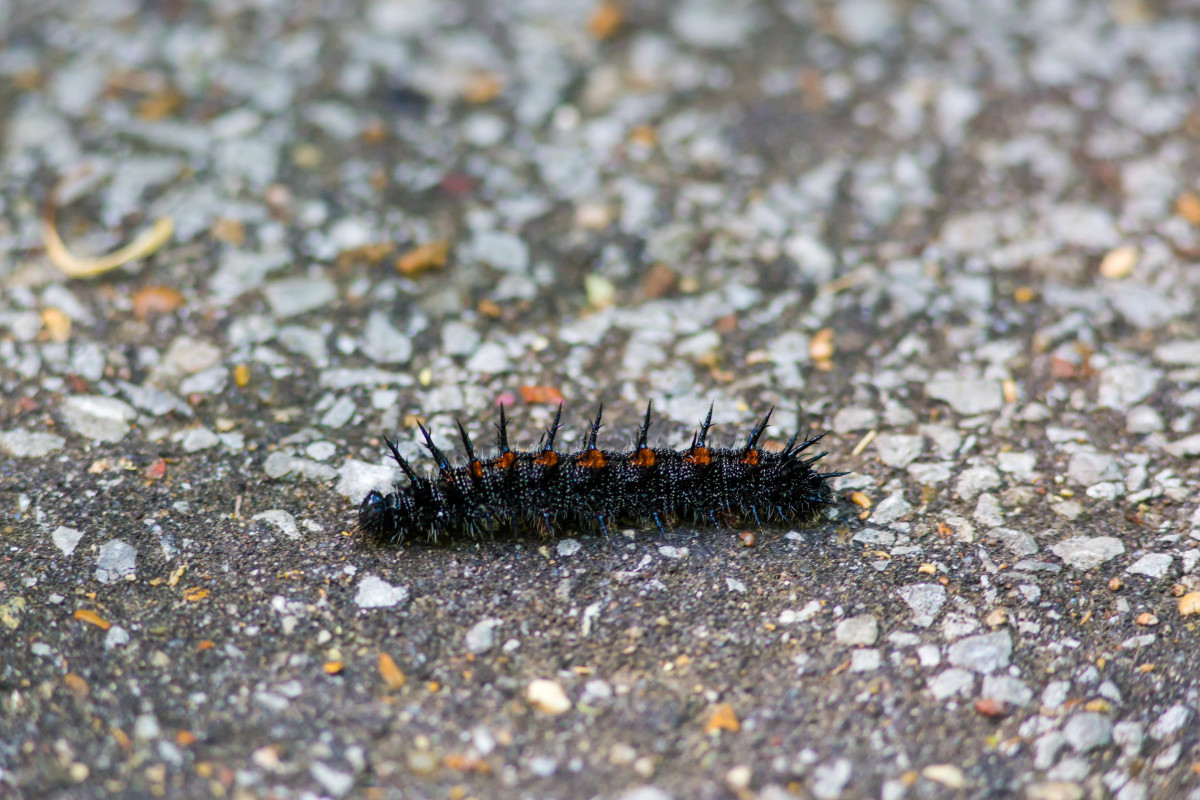Caterpillar: (357, 402, 844, 554)
